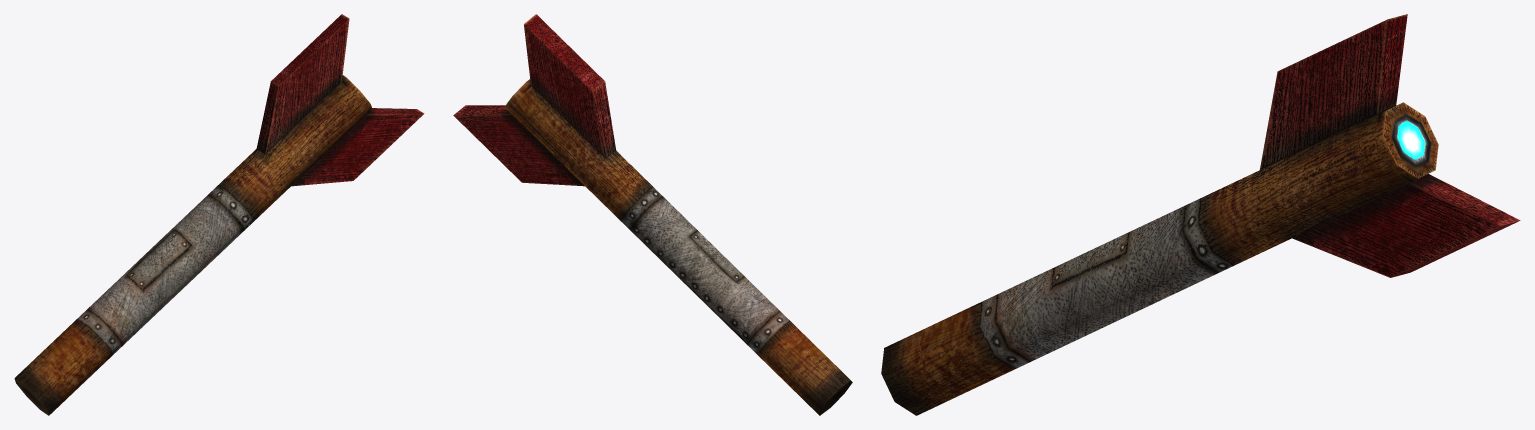
File: HEAD_ARROW.fbx
The picture shows the model from 3 angles, left to right: view 1: azimuth 30°, elevation 25°; view 2: azimuth 150°, elevation 25°; view 3: azimuth 330°, elevation 25°; orthographic projection. The views are drawn at different scales.
Visible parts, largest first — view 1: HEAD_ARROW; view 2: HEAD_ARROW; view 3: HEAD_ARROW.
Boxes of the visible parts, x1=… form: HEAD_ARROW: x1=14, y1=14, x2=424, y2=415; HEAD_ARROW: x1=453, y1=14, x2=852, y2=415; HEAD_ARROW: x1=881, y1=14, x2=1520, y2=415.
Size of the model in its own units: 0.00892 by 0.00698 by 0.00107.
